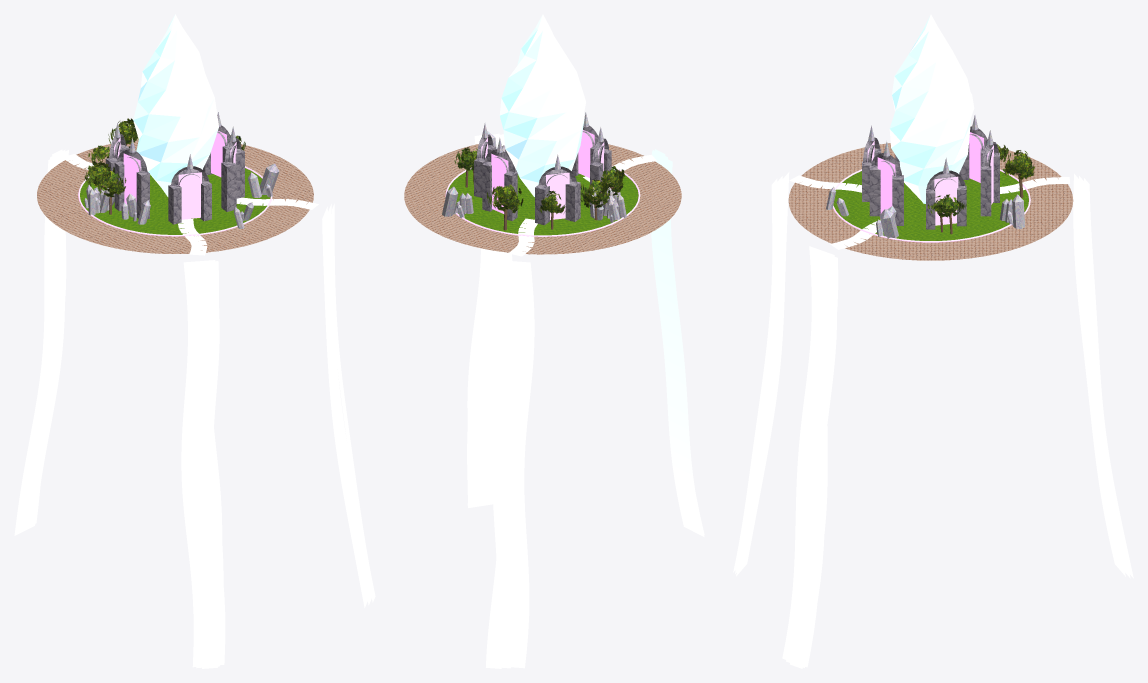
The model's file is GARDEN_SOUTH.glb.
The picture shows the model from 3 angles, left to right: view 1: azimuth 30°, elevation 25°; view 2: azimuth 150°, elevation 25°; view 3: azimuth 270°, elevation 25°; orthographic projection. The views are drawn at different scales.
Parts seen in each view (by area): view 1: GD_South_Body.001, GD_South_Fall250.001, GD_South_Fall110.001, GD_South_Fall320.001, GD_South_Crystals.001, GD_South_Trees.001; view 2: GD_South_Body.001, GD_South_Fall110.001, GD_South_Fall250.001, GD_South_Fall320.001, GD_South_Trees.001, GD_South_Crystals.001; view 3: GD_South_Body.001, GD_South_Fall320.001, GD_South_Fall110.001, GD_South_Fall250.001, GD_South_Crystals.001, GD_South_Trees.001.
Part boxes in pixels (x1=…): GD_South_Body.001: x1=37, y1=14, x2=318, y2=255; GD_South_Fall250.001: x1=181, y1=260, x2=225, y2=668; GD_South_Fall110.001: x1=14, y1=149, x2=68, y2=535; GD_South_Fall320.001: x1=322, y1=203, x2=375, y2=607; GD_South_Crystals.001: x1=84, y1=163, x2=279, y2=228; GD_South_Trees.001: x1=84, y1=118, x2=245, y2=214; GD_South_Body.001: x1=404, y1=14, x2=681, y2=256; GD_South_Fall110.001: x1=486, y1=260, x2=534, y2=668; GD_South_Fall250.001: x1=651, y1=149, x2=704, y2=536; GD_South_Fall320.001: x1=467, y1=133, x2=512, y2=507; GD_South_Trees.001: x1=454, y1=147, x2=624, y2=230; GD_South_Crystals.001: x1=442, y1=131, x2=626, y2=222; GD_South_Body.001: x1=788, y1=14, x2=1073, y2=260; GD_South_Fall320.001: x1=782, y1=246, x2=838, y2=668; GD_South_Fall110.001: x1=1073, y1=173, x2=1133, y2=578; GD_South_Fall250.001: x1=733, y1=172, x2=789, y2=576; GD_South_Crystals.001: x1=826, y1=187, x2=1024, y2=238; GD_South_Trees.001: x1=928, y1=144, x2=1035, y2=234.
Size of the model in its own units: 41.65 by 88.08 by 54.61.
Materials: 12 (6 with a texture image).
